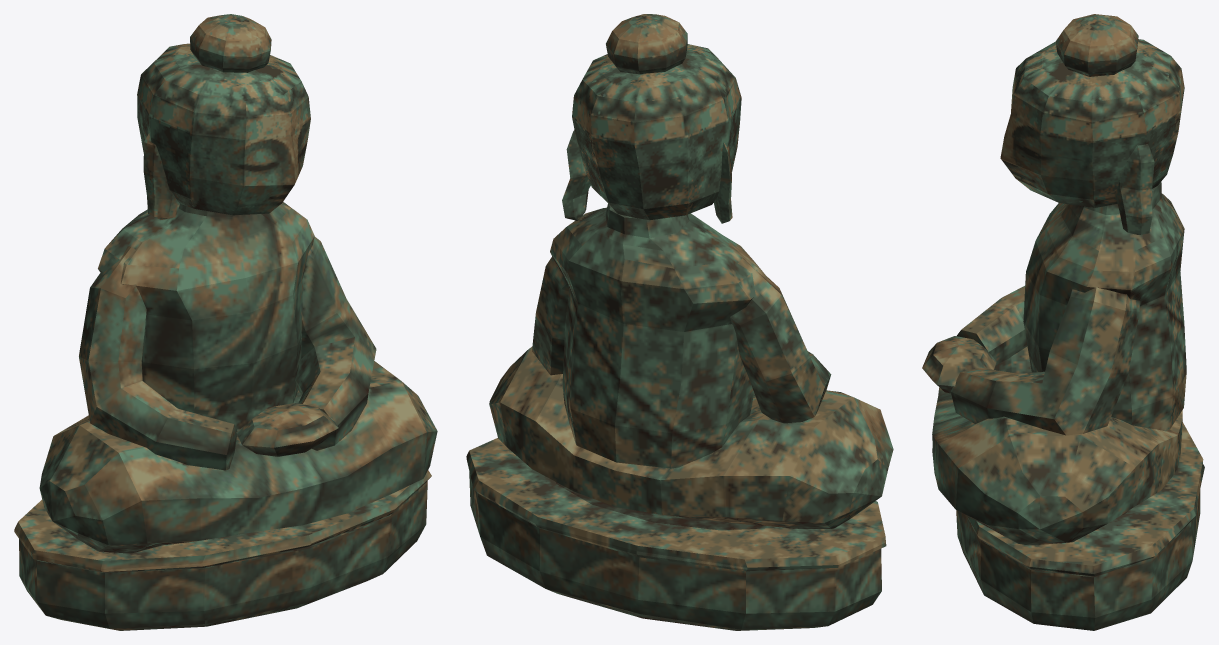
Rendered from CI12_Buddha.fbx.
3 renders of one model, left to right at view 1: azimuth 30°, elevation 25°; view 2: azimuth 150°, elevation 25°; view 3: azimuth 270°, elevation 25°, orthographic. The views are drawn at different scales.
Parts seen in each view (by area): view 1: CI12_Buddha; view 2: CI12_Buddha; view 3: CI12_Buddha.
Part boxes in pixels (bbox=[...]): CI12_Buddha: bbox=[14, 14, 437, 630]; CI12_Buddha: bbox=[466, 14, 893, 630]; CI12_Buddha: bbox=[922, 14, 1204, 630].
Size of the model in its own units: 0.1505 by 0.1978 by 0.0943.
Materials: 1 (1 with a texture image).
